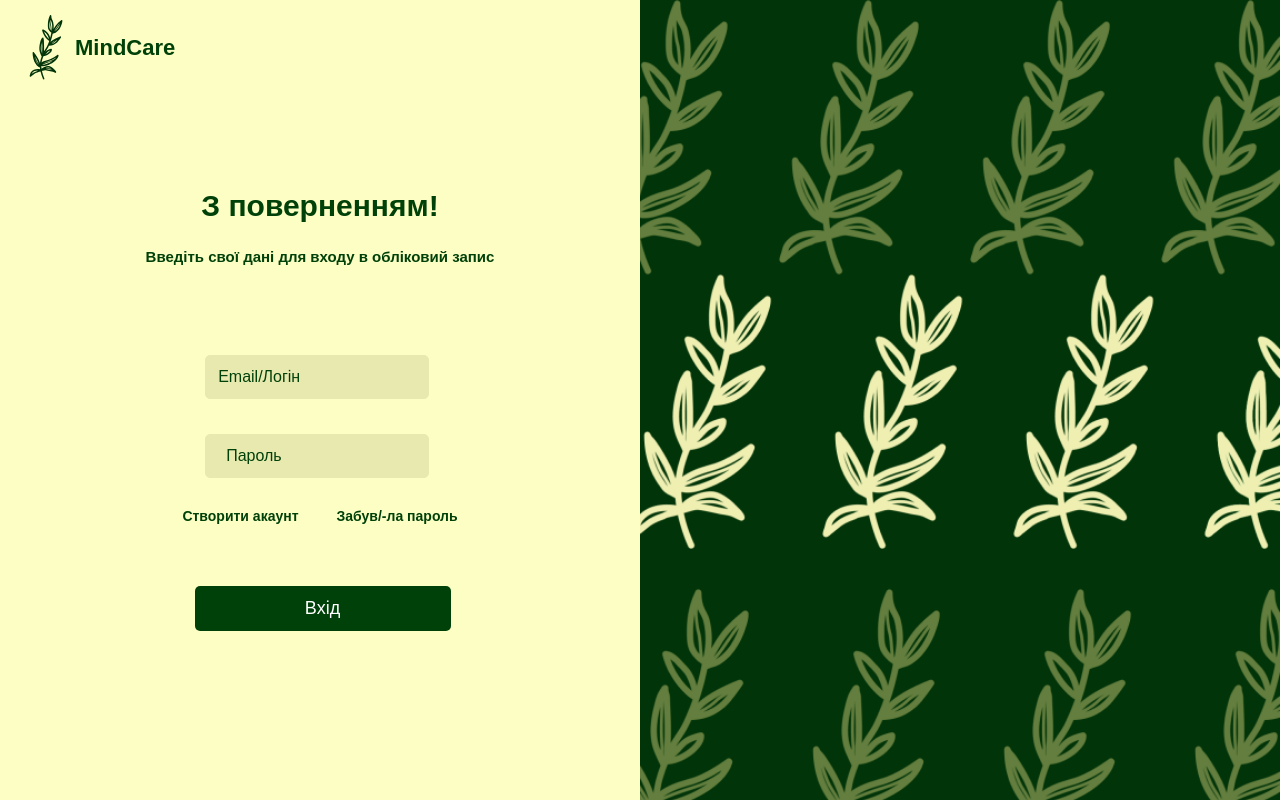
Test: LoginPage › shows invalid credentials error and keeps stale status in localStorage
Step 1. Type "user@test.com" into the field with placeholder "Email/Логін" → (317, 377), box x1=205 y1=355 x2=429 y2=399
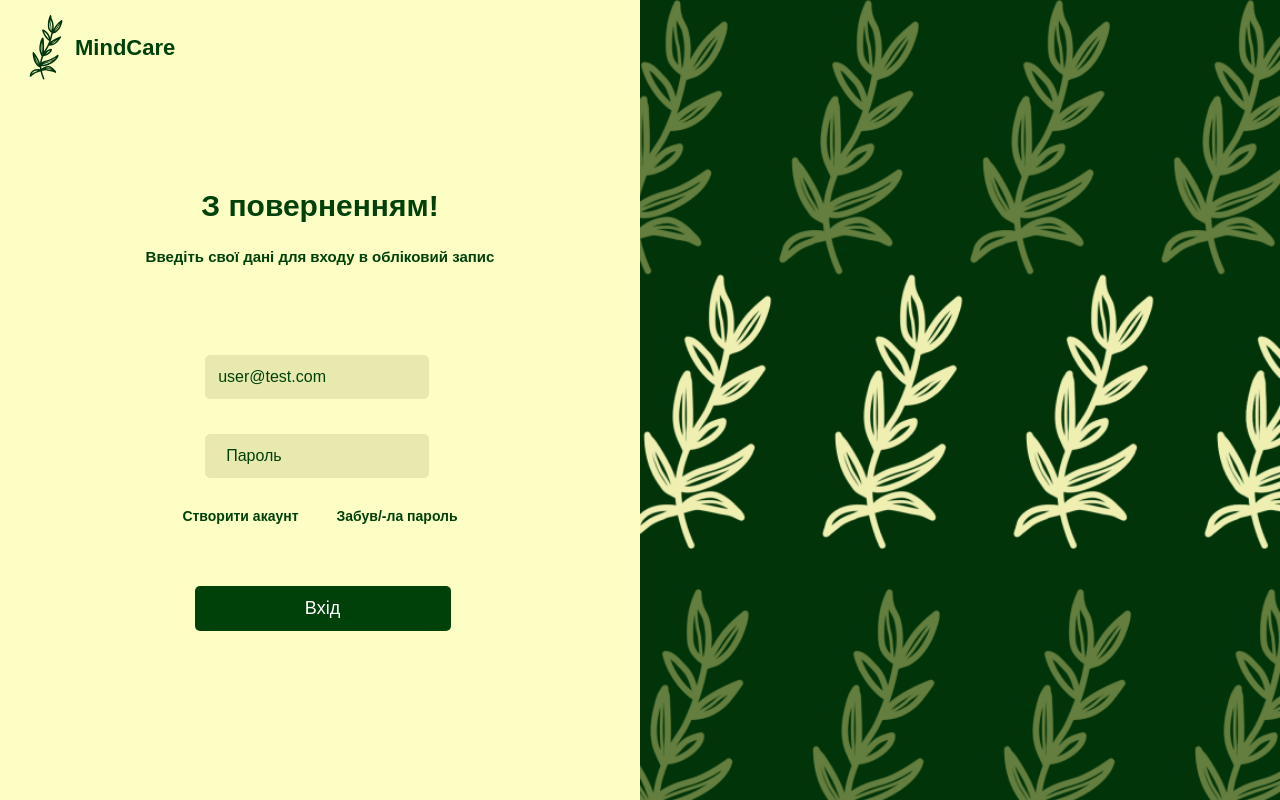
Step 2. Type "wrong-password" into the password field with placeholder "Пароль" → (317, 456), box x1=205 y1=434 x2=429 y2=478
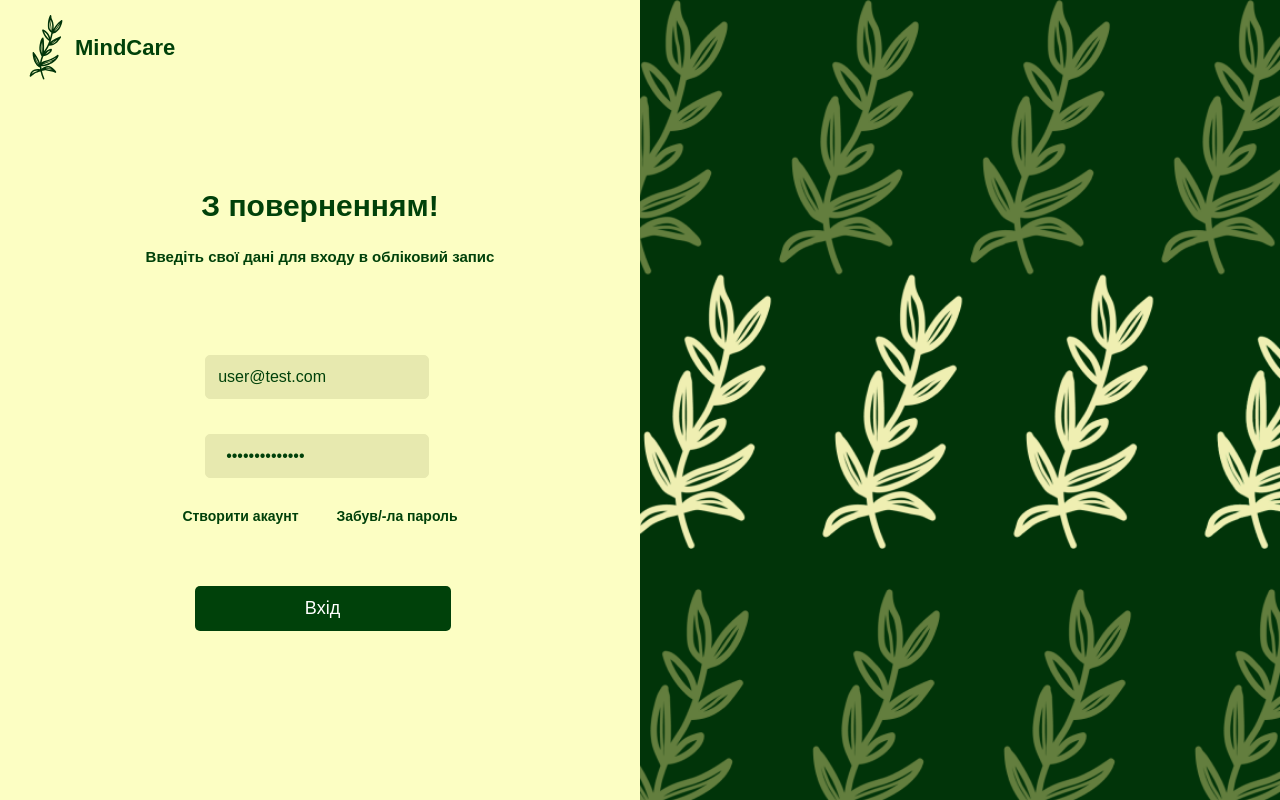
Step 3. Click the button "Вхід" → (322, 609), box x1=194 y1=586 x2=450 y2=631
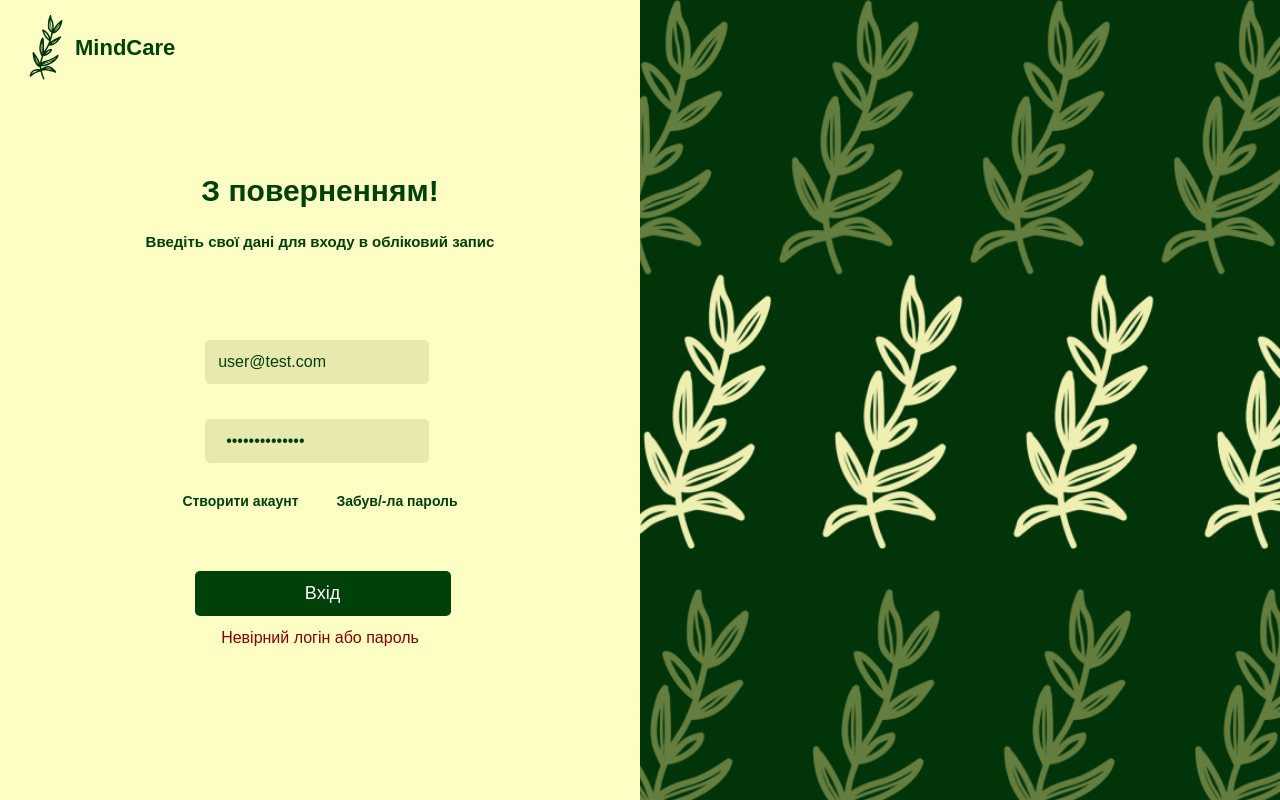
Now the text "Невірний логін або пароль" is shown, box x1=221 y1=629 x2=419 y2=647
